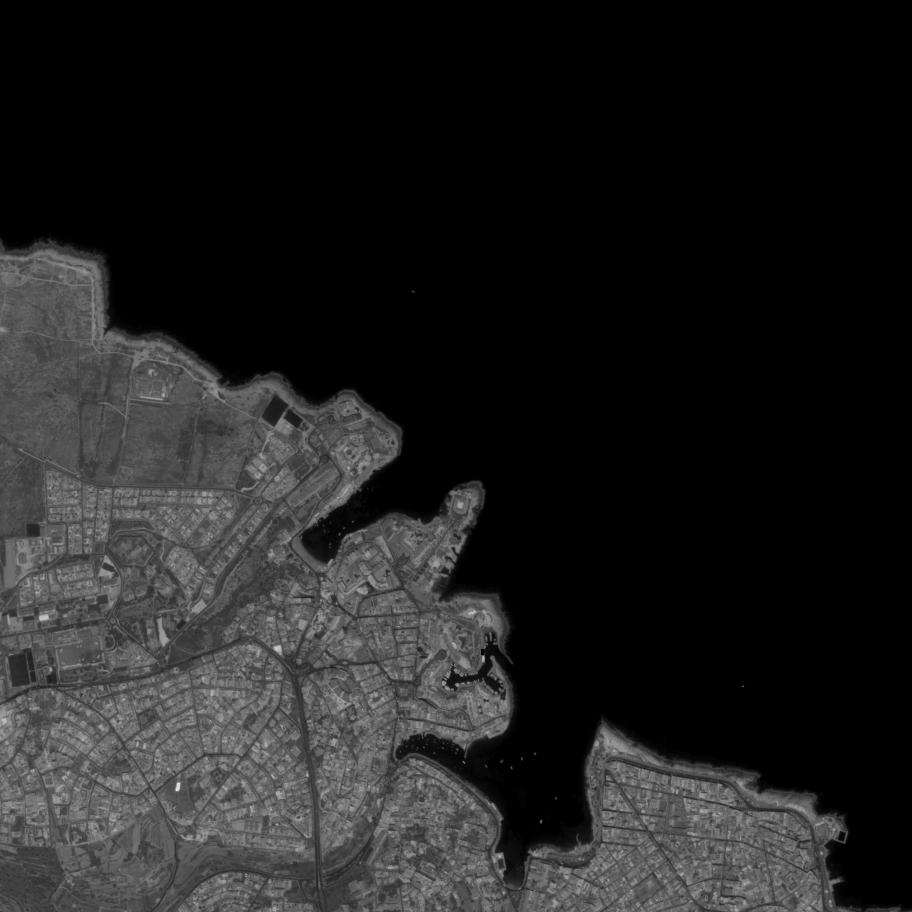ship: (531, 763, 536, 770), (481, 650, 483, 654), (483, 656, 484, 663)
